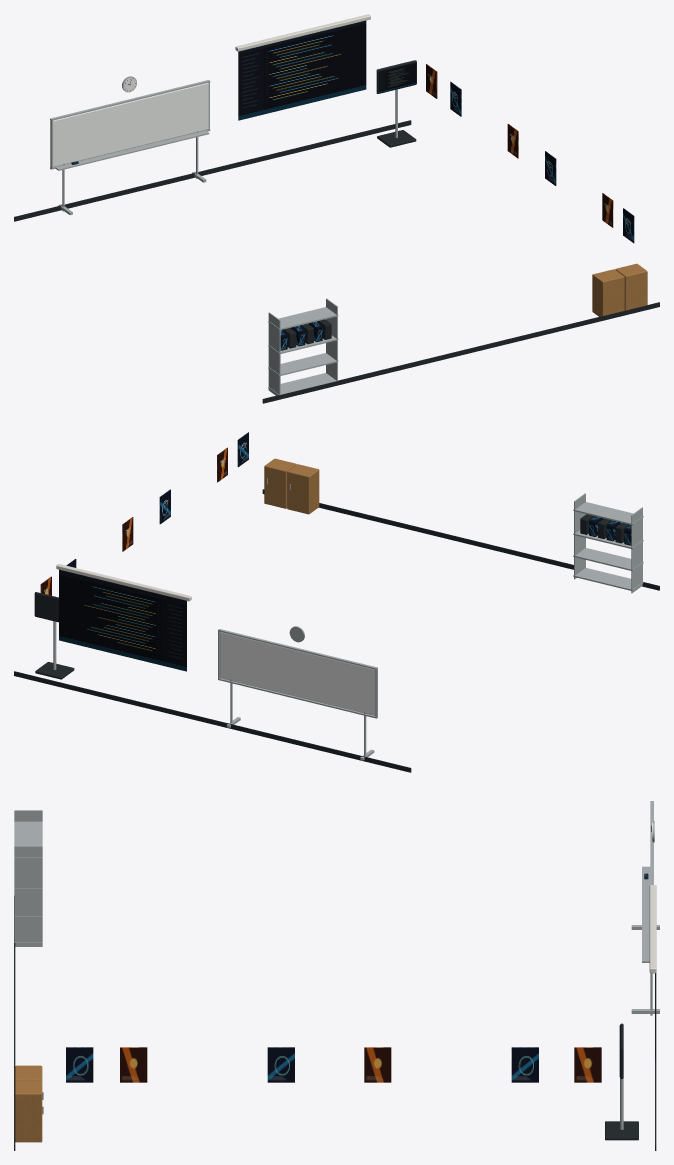
The model's file is SM_F03_ClassroomFixtures.fbx.
3 views of the same model, one above another, from view 1: azimuth 30°, elevation 25°; view 2: azimuth 150°, elevation 25°; view 3: azimuth 270°, elevation 25° (orthographic). The views are drawn at different scales.
Visible parts, largest first — view 1: SM_F03_ClassroomFixtures; view 2: SM_F03_ClassroomFixtures; view 3: SM_F03_ClassroomFixtures.
Boxes of the visible parts, x1,y1,x2,y2 form: SM_F03_ClassroomFixtures: (14, 14, 659, 403); SM_F03_ClassroomFixtures: (14, 432, 659, 772); SM_F03_ClassroomFixtures: (14, 801, 659, 1150).
Size of the model in its own units: 1040 by 1138 by 303.
9 materials, 4 textured.
